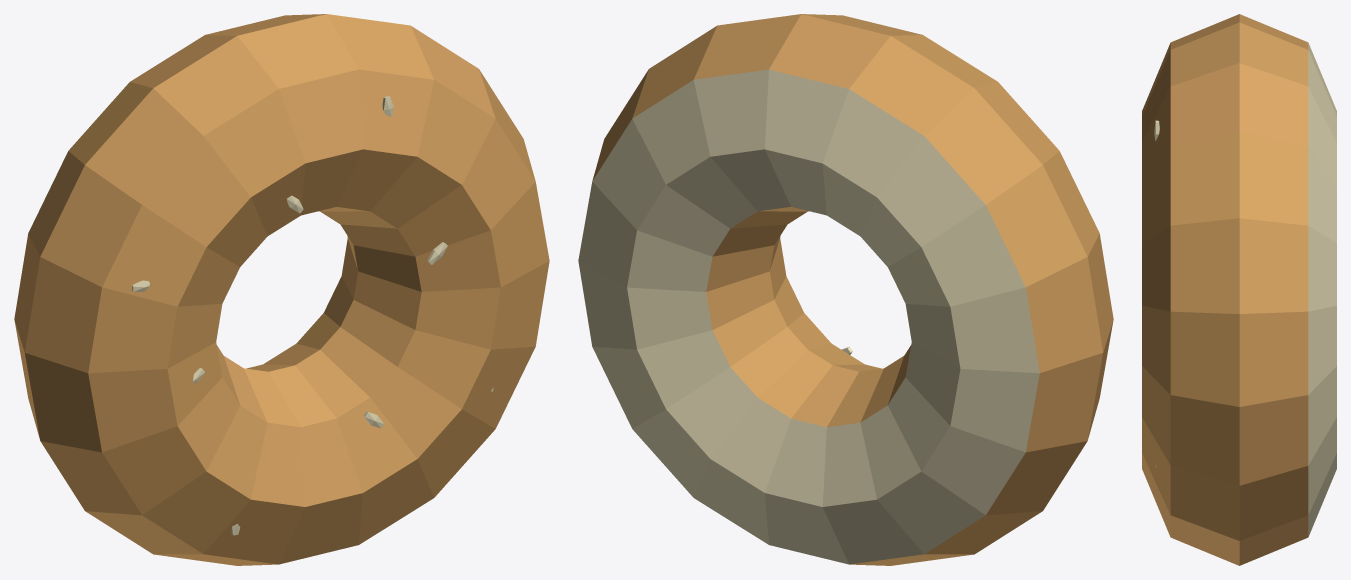
Rendered from bagel.glb.
The picture shows the model from 3 angles, left to right: view 1: azimuth 30°, elevation 25°; view 2: azimuth 150°, elevation 25°; view 3: azimuth 270°, elevation 25°; orthographic projection. The views are drawn at different scales.
Parts seen in each view (by area): view 1: bagel; view 2: bagel; view 3: bagel.
Boxes of the visible parts, left/top/right/bottom form: bagel: left=14, top=14, right=549, bottom=565; bagel: left=578, top=14, right=1113, bottom=565; bagel: left=1142, top=14, right=1336, bottom=565.
Bounding box in the file's own units: 0.108 × 0.1064 × 0.038.
